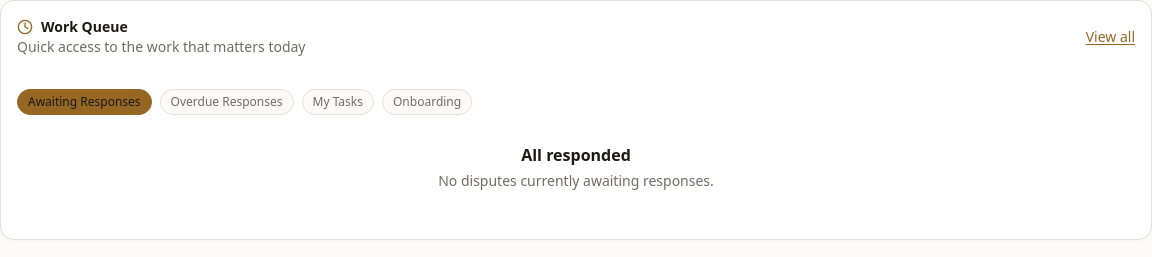
WorkQueue › Empty States › should show empty state for onboarding
Click the button "Onboarding": [427, 102] box [382,89,472,115]
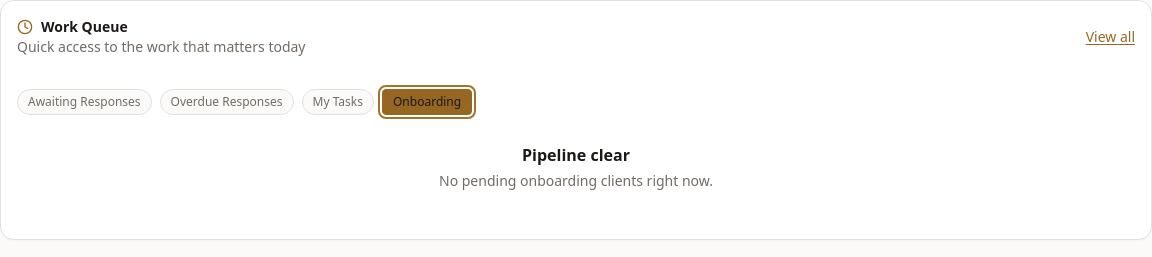
Check: the text "No pending onboarding clients right now." is shown, box [439,171,713,191]
